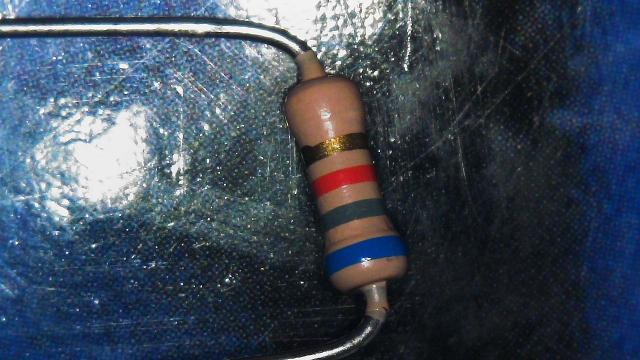blue: (324, 235, 405, 276)
gold: (298, 133, 370, 164)
grey: (320, 198, 386, 230)
orange: (312, 165, 376, 197)
resistor: (241, 41, 431, 319)
